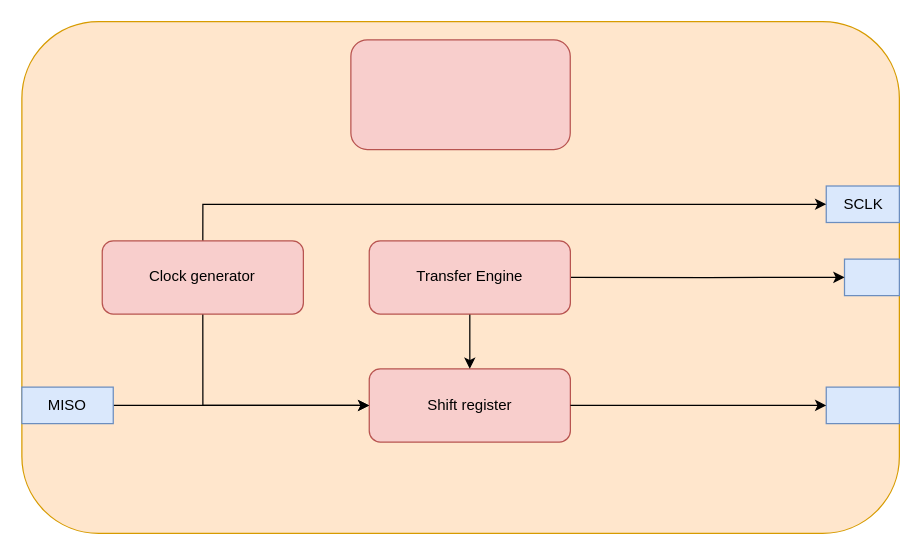
This 921x556 diagram has some shape labels left out. The box of each missing label's shape, as (x1, y1, x2, y2) in pixels:
Control unit: (350, 38, 570, 150)
MOSI: (825, 386, 899, 424)
SS: (843, 258, 899, 296)
